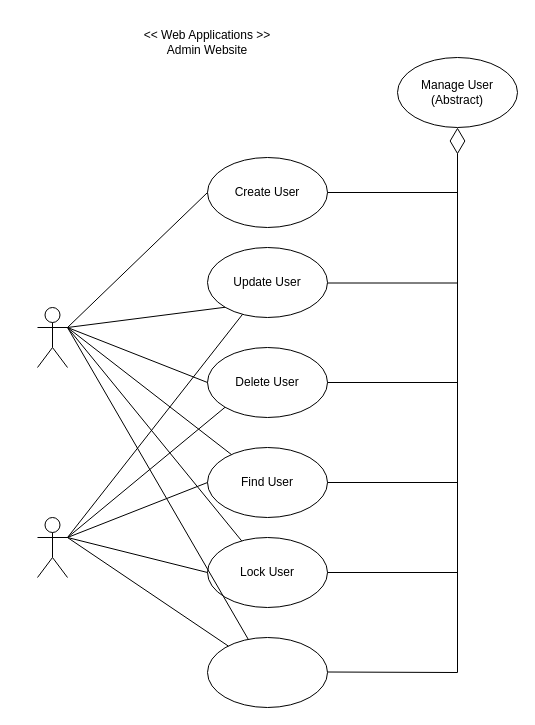
Image size: 535x725. Some labels were removed from this diagram. Here are the shapes that lost their labels. From the top down, the box of each, then its label:
(36, 306, 68, 368): Website Administrator
(36, 516, 68, 578): Help Desk
(206, 636, 328, 708): Unlock User
